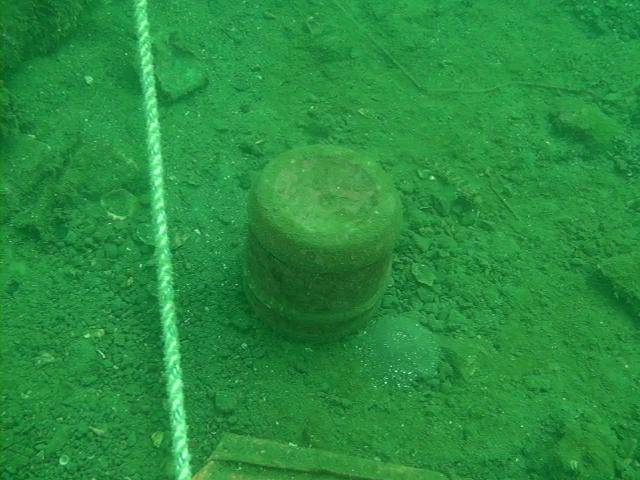rope: (133, 0, 192, 480)
